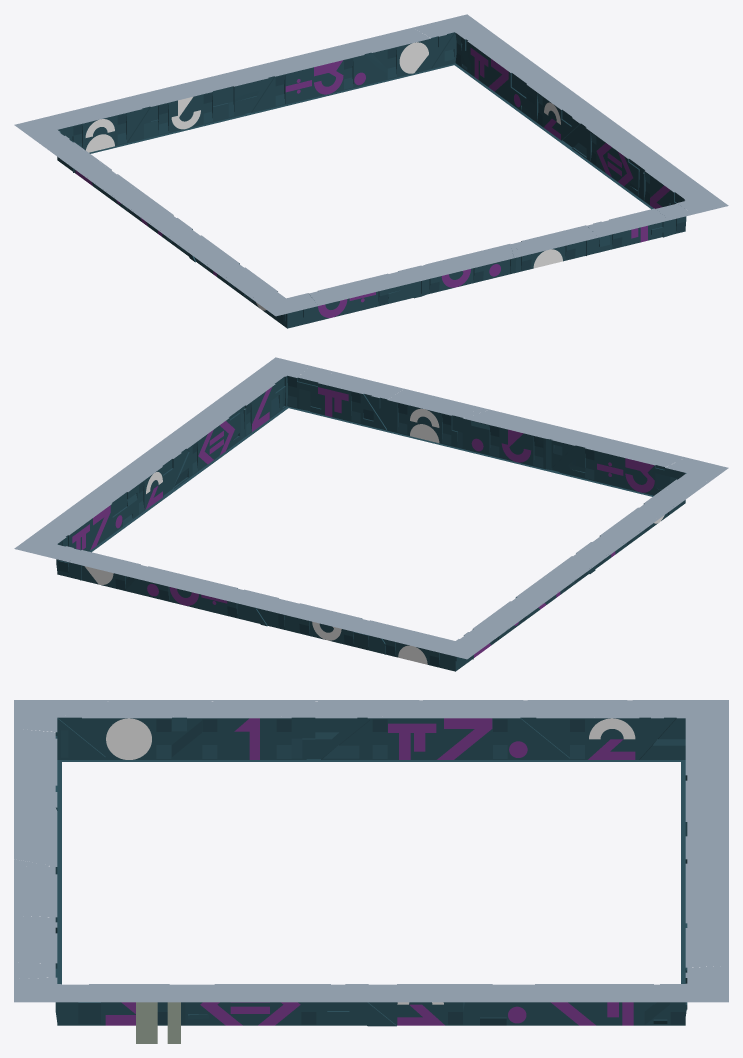
File: preti_light_cycle_arena.glb
The picture shows the model from 3 angles, top to bottom: view 1: azimuth 30°, elevation 25°; view 2: azimuth 150°, elevation 25°; view 3: azimuth 270°, elevation 25°; orthographic projection. The views are drawn at different scales.
Parts seen in each view (by area): view 1: Mesh148 Group2 Model, Mesh150 Group2 Model; view 2: Mesh148 Group2 Model, Mesh150 Group2 Model; view 3: Mesh148 Group2 Model, Mesh150 Group2 Model.
Part boxes in pixels (left/top/right/bottom): Mesh148 Group2 Model: left=14, top=14, right=728, bottom=328; Mesh150 Group2 Model: left=50, top=151, right=278, bottom=316; Mesh148 Group2 Model: left=14, top=357, right=725, bottom=671; Mesh150 Group2 Model: left=504, top=467, right=728, bottom=632; Mesh148 Group2 Model: left=14, top=700, right=728, bottom=1043; Mesh150 Group2 Model: left=14, top=700, right=626, bottom=701.
Size of the model in its own units: 931 by 60 by 931.
